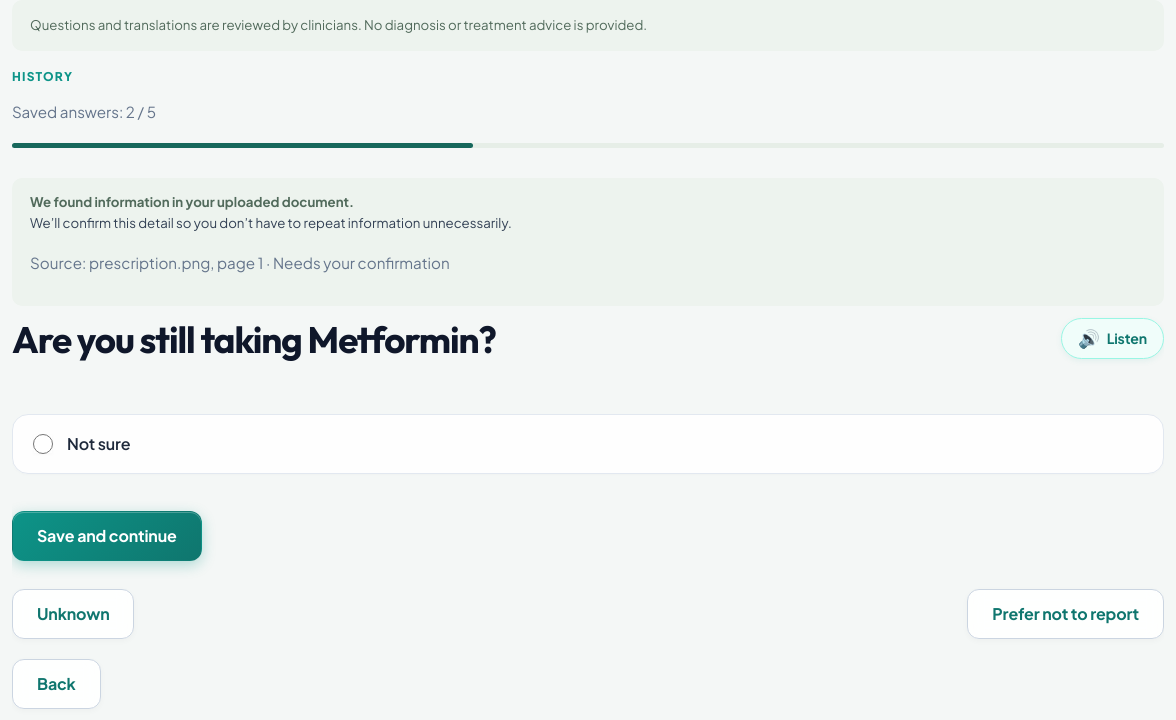
Test: does not show covered-history success for a not_sure document response
This screenshot has width=1176, height=720.
Click the radio button labelled "Not sure" at (43, 444), box [33,434,53,454]
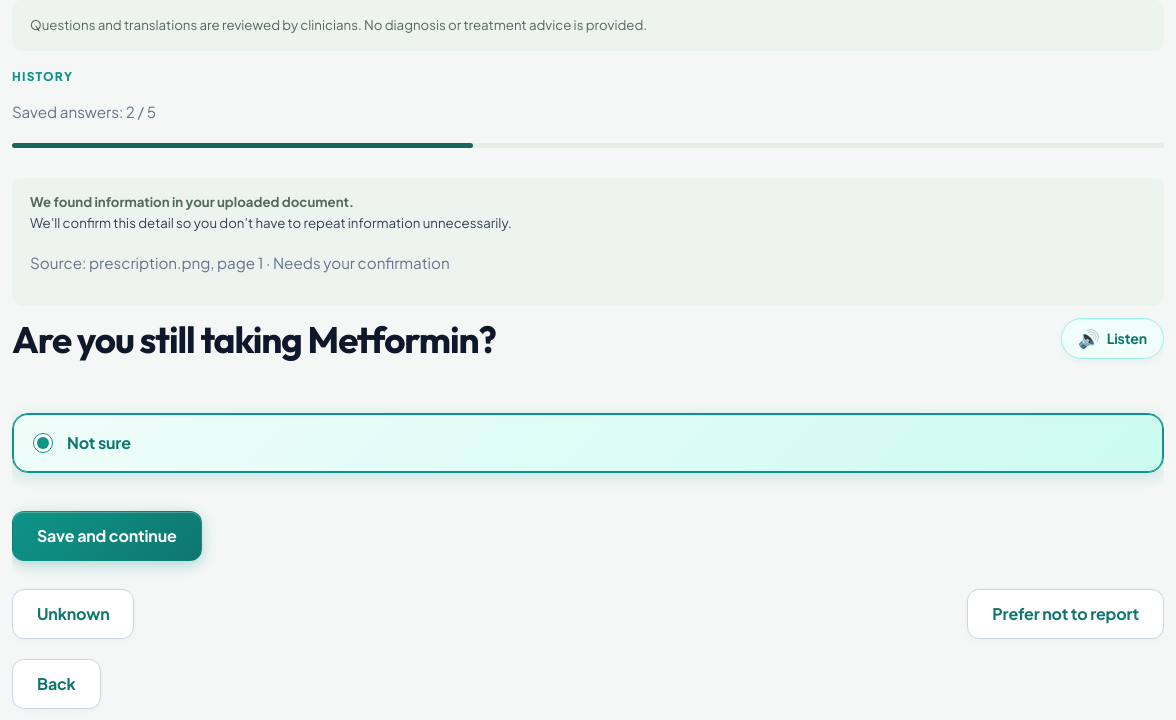
Click the button "Save and continue" at (107, 536), box [12,511,202,561]
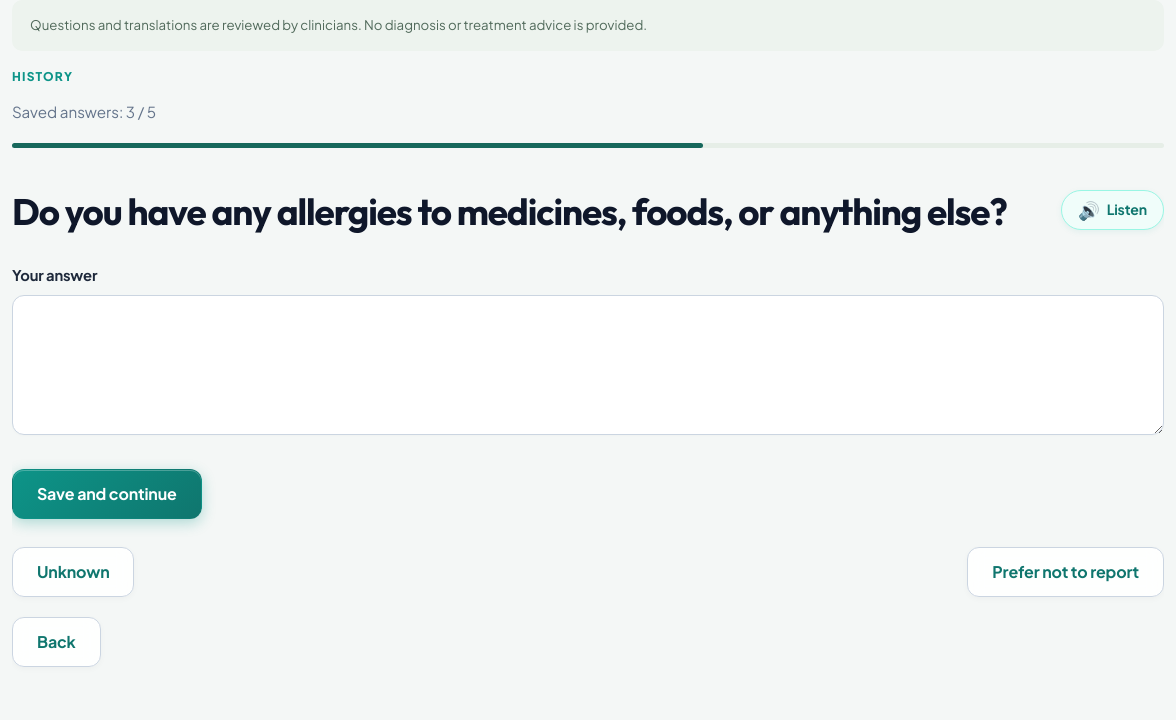
Expected: the heading "Do you have any allergies to medicines, foods, or anything else?" is shown, [12,190,1045,234]
